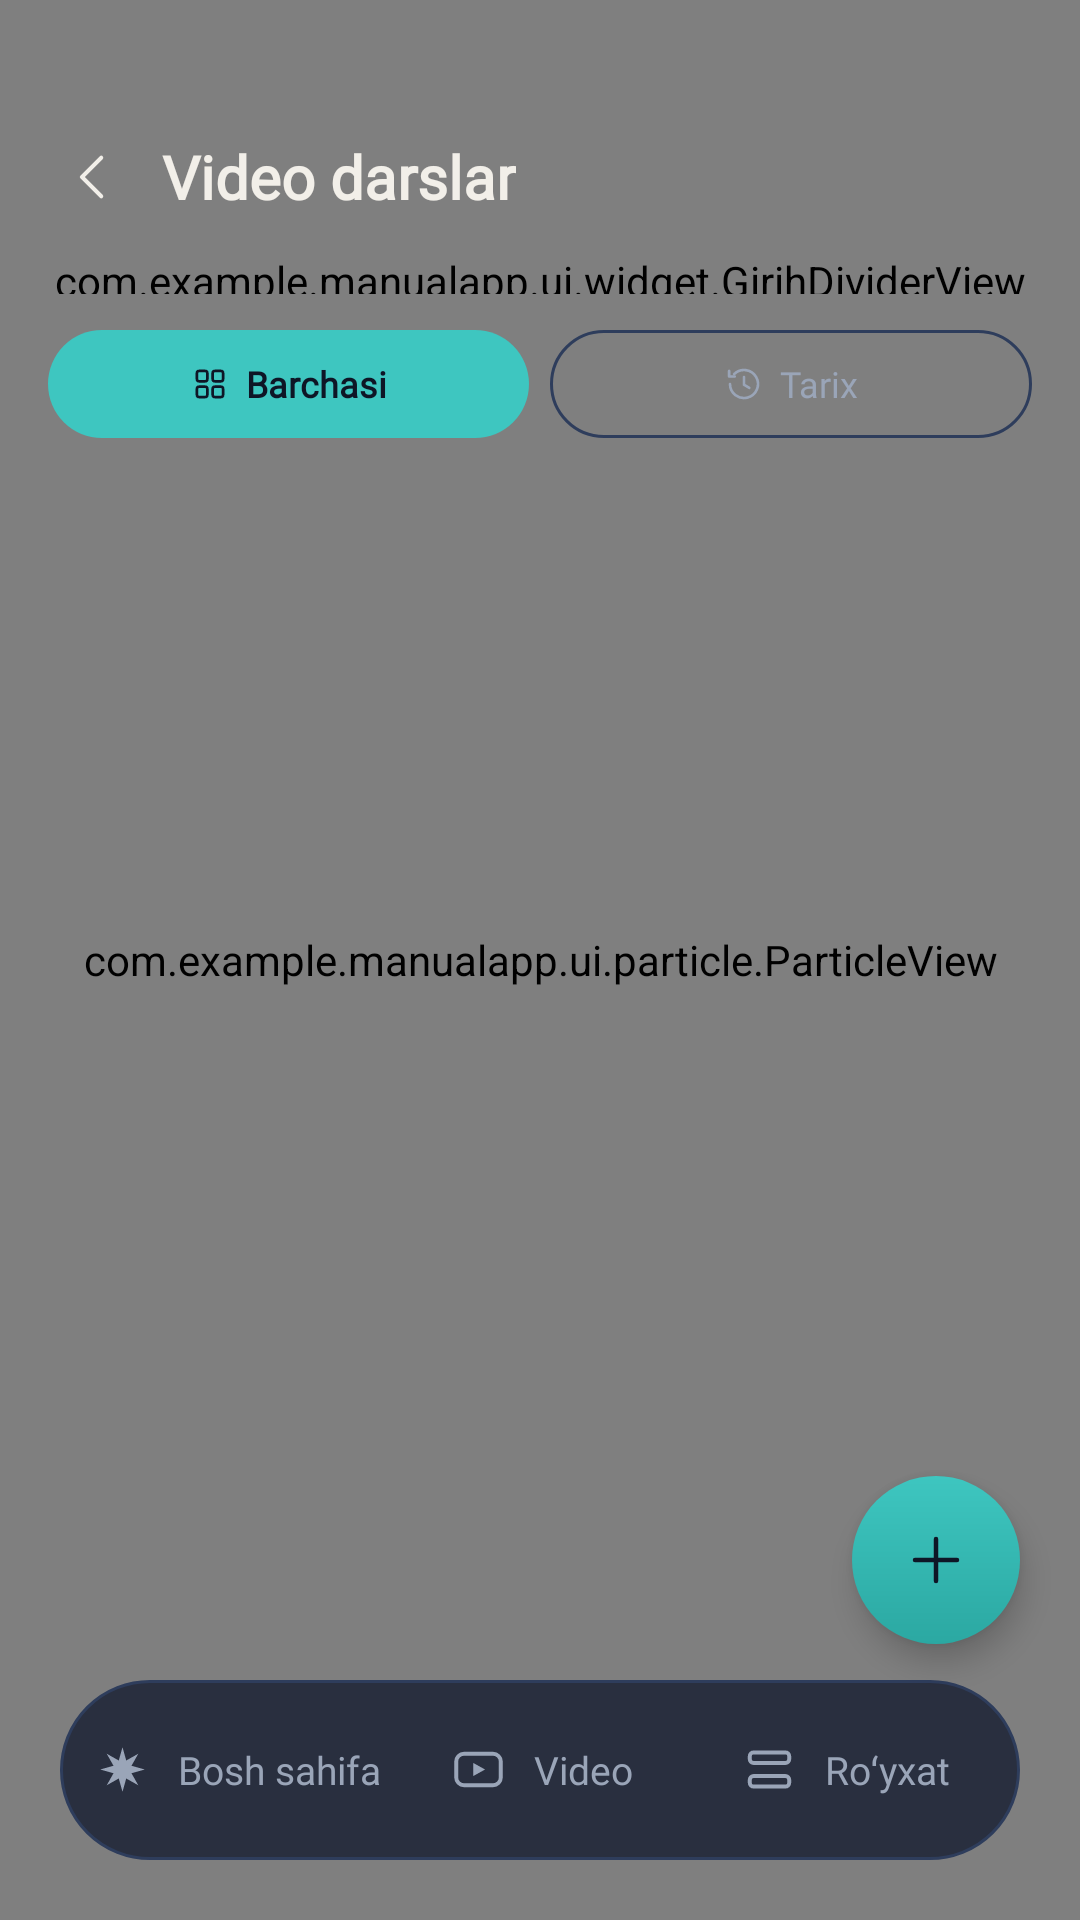

Where to tap for icons on this 1080 x 1920 app screen, as [x,y]:
grid: [210,384]
history: [743,384]
list: [769,1769]
Orqaga: [91,177]
Video havola qoʻshish: [936,1560]
